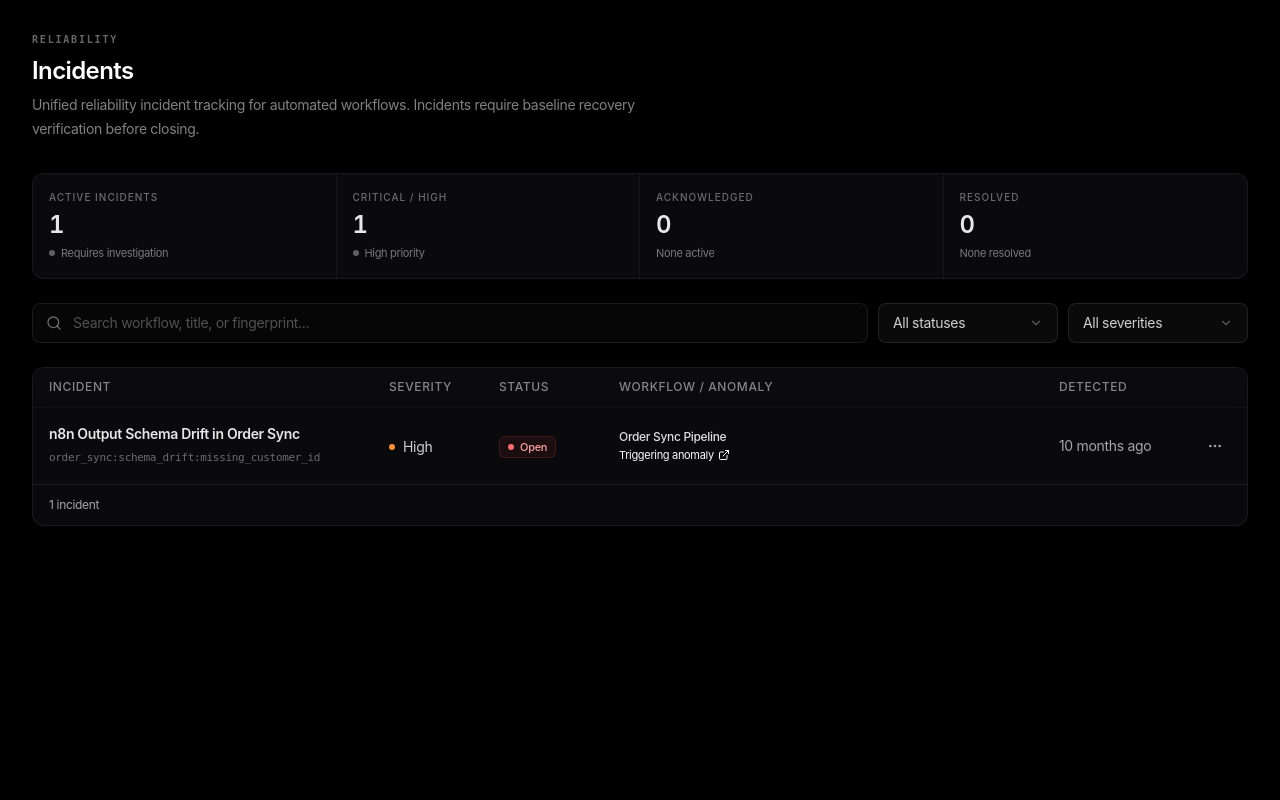
Milestone 7: Monitoring UI, Multi-Instance Integrations & Incidents › IncidentsPage Rendering and Recovery Guard › renders incident list and displays 409 recovery guard modal when resolution is blocked
Expected: the link "n8n Output Schema Drift in Order Sync" is shown, left=49, top=425, right=300, bottom=442
Expected: the text "High" is shown, left=389, top=437, right=432, bottom=457
# Open dropdown menu
Press the mouse on the button named "open menu" at (1215, 446), box left=1199, top=430, right=1231, bottom=462
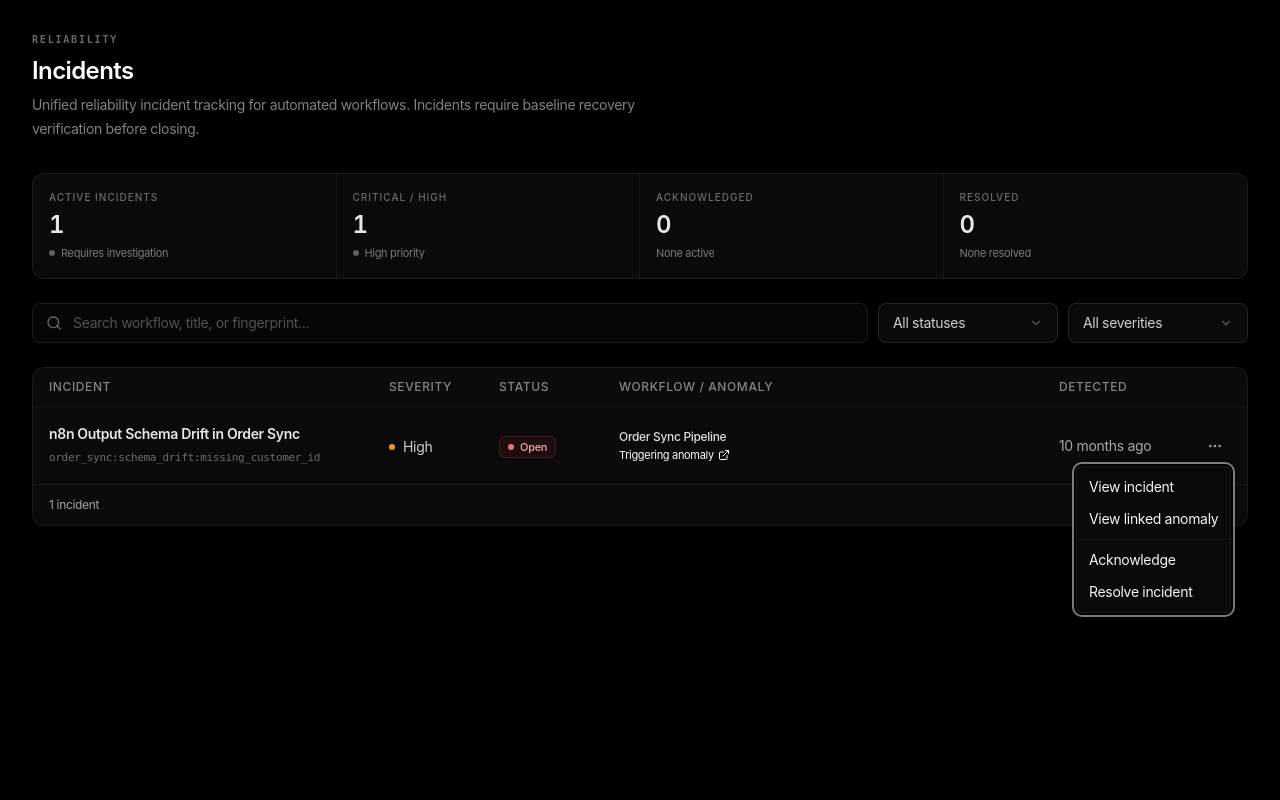
# Click "Resolve incident"
Click the menu item "Resolve incident" at (1141, 592), box left=1089, top=583, right=1192, bottom=600
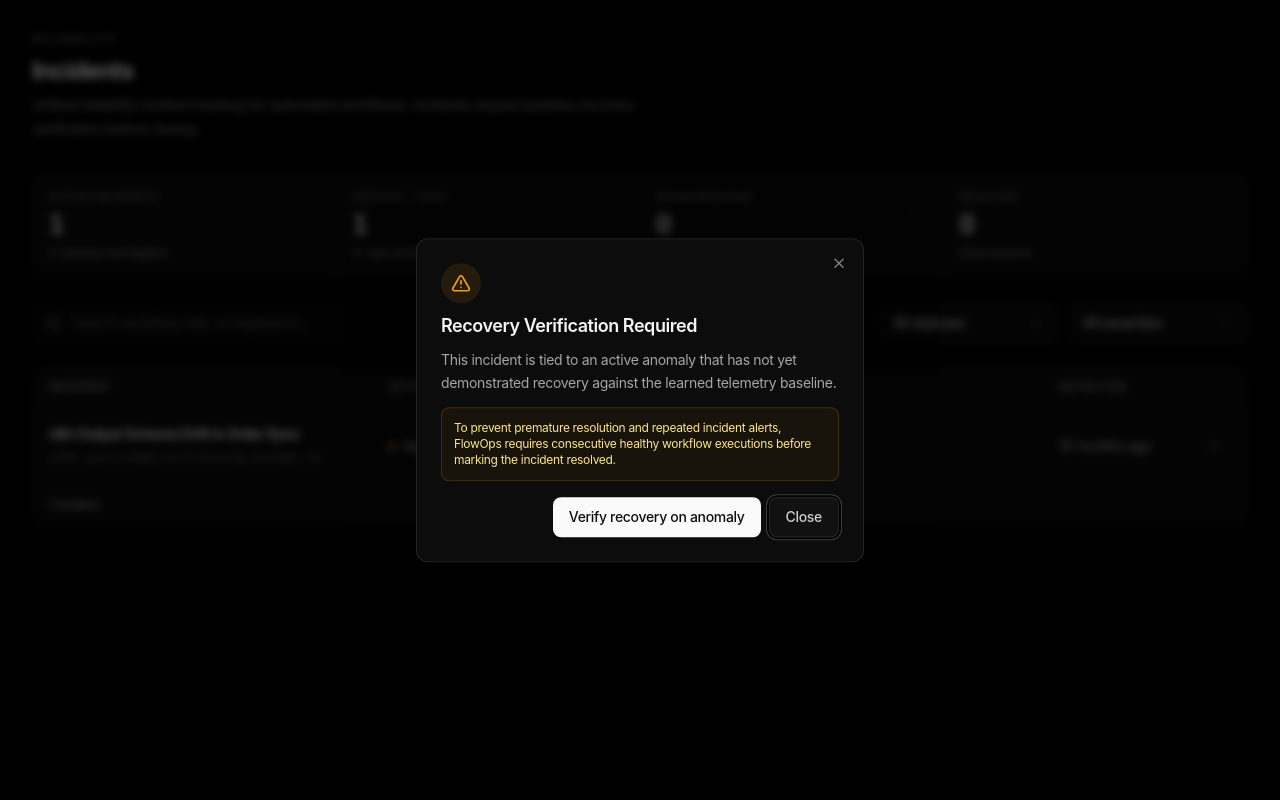
Result: the heading "Recovery Verification Required" is shown at left=441, top=315, right=697, bottom=336
Result: the text "To prevent premature resolution and repeated incident alerts" is shown at left=454, top=420, right=811, bottom=467
Result: the button "Close" is shown
Click the button "Close" at (804, 517), box left=769, top=497, right=839, bottom=537
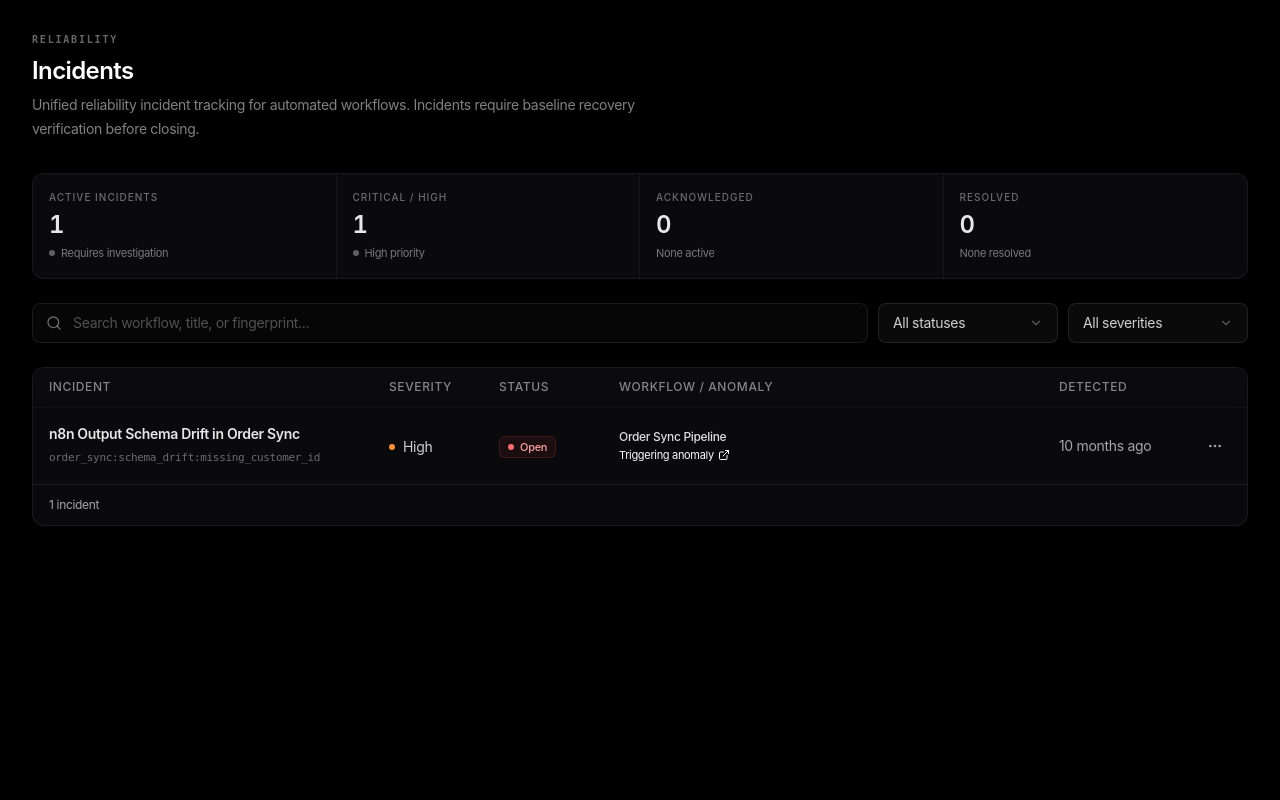
Result: the heading "Recovery Verification Required" is gone
